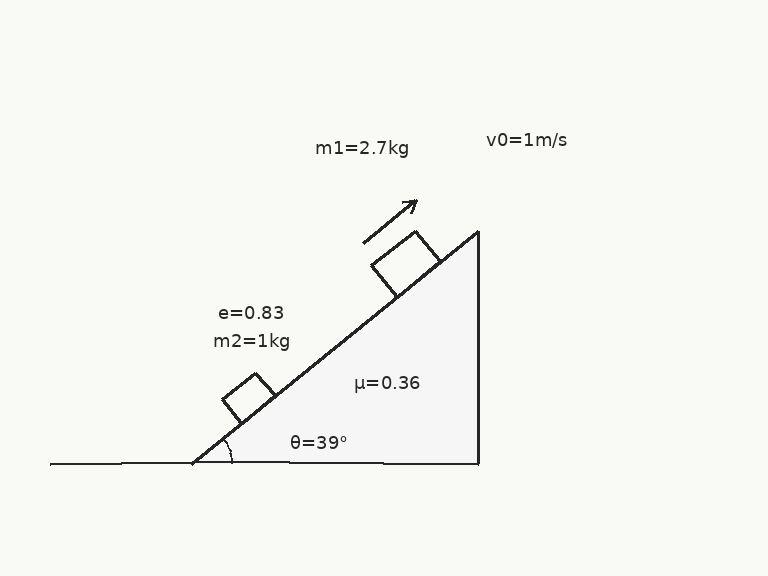block: (369, 228, 442, 299), (220, 371, 276, 425)
ramp: (190, 229, 480, 465)
